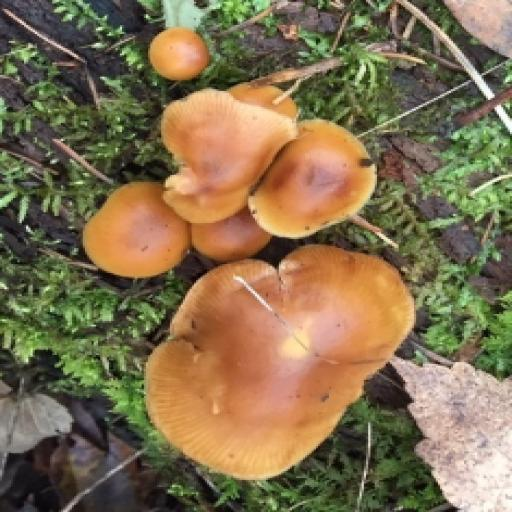mushroom: (81, 84, 420, 486), (138, 20, 218, 86)
